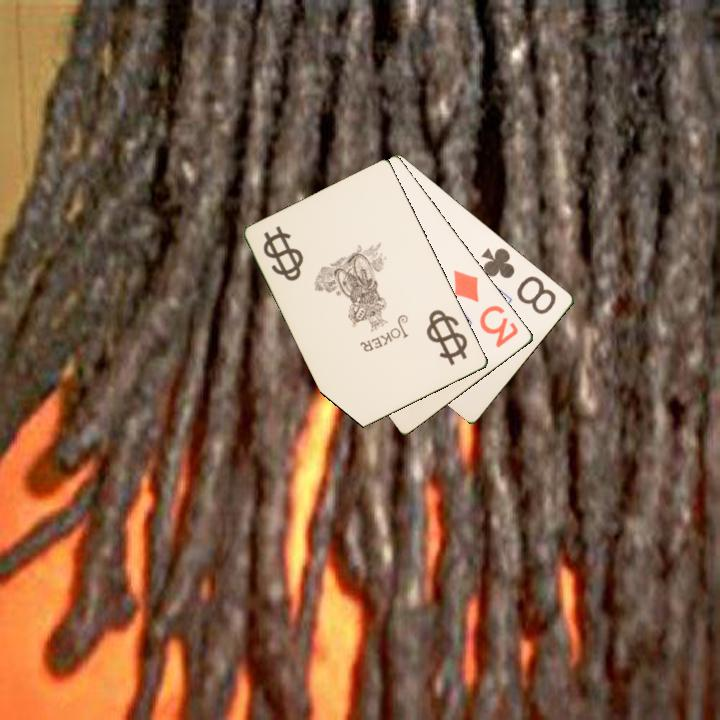3d: (450, 266, 522, 351)
8c: (478, 244, 560, 318)
JK: (260, 222, 304, 284), (429, 310, 467, 358)
